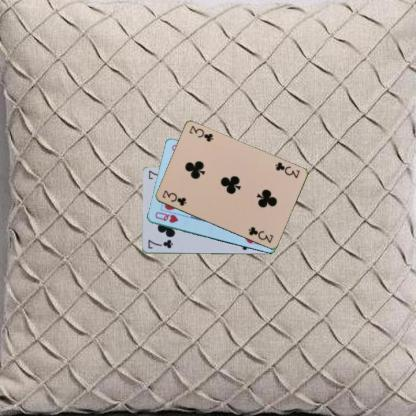3c: (272, 160, 301, 180), (159, 188, 188, 207)
7c: (146, 238, 174, 249)
Qh: (152, 209, 179, 224)
